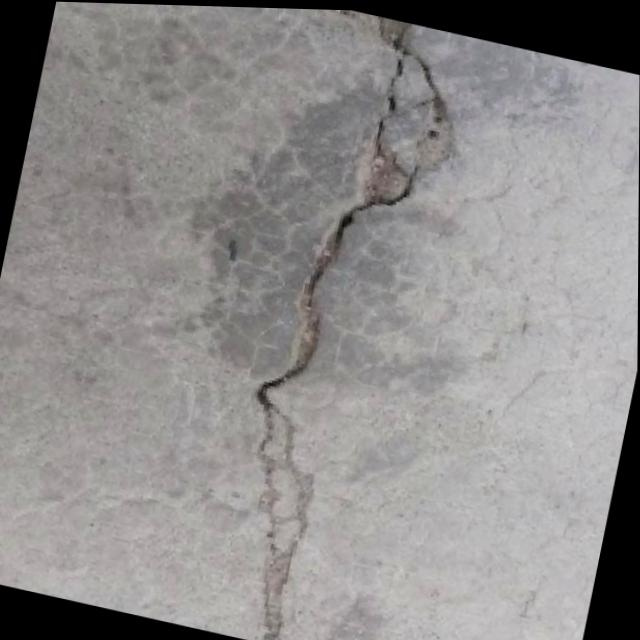Crack: (198, 5, 479, 640)
